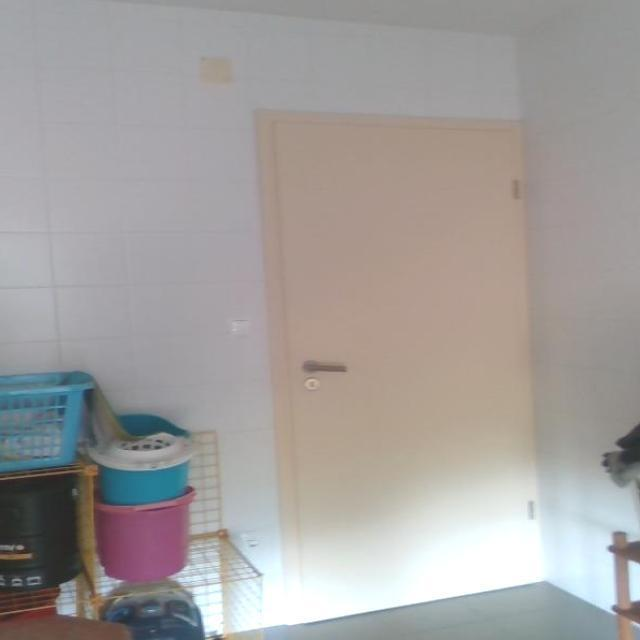door: (258, 108, 541, 621)
